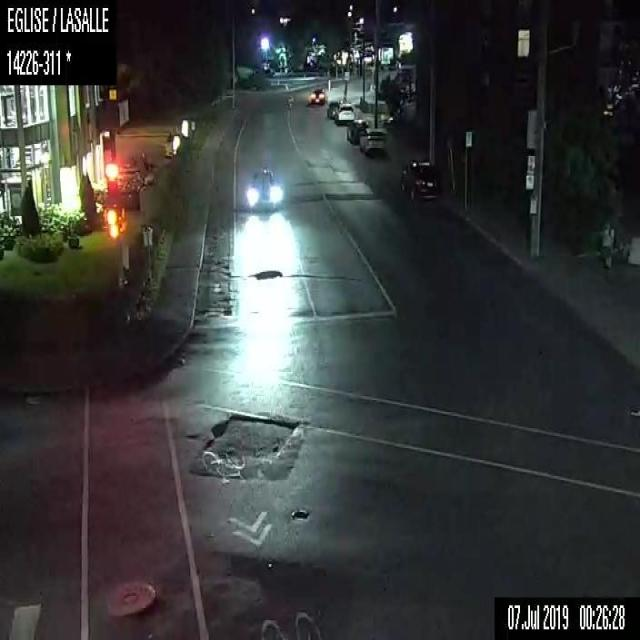vehicle: (238, 166, 286, 212), (398, 156, 439, 205), (358, 128, 386, 159), (346, 117, 368, 145), (335, 102, 354, 124), (308, 87, 326, 106), (327, 98, 341, 117)
